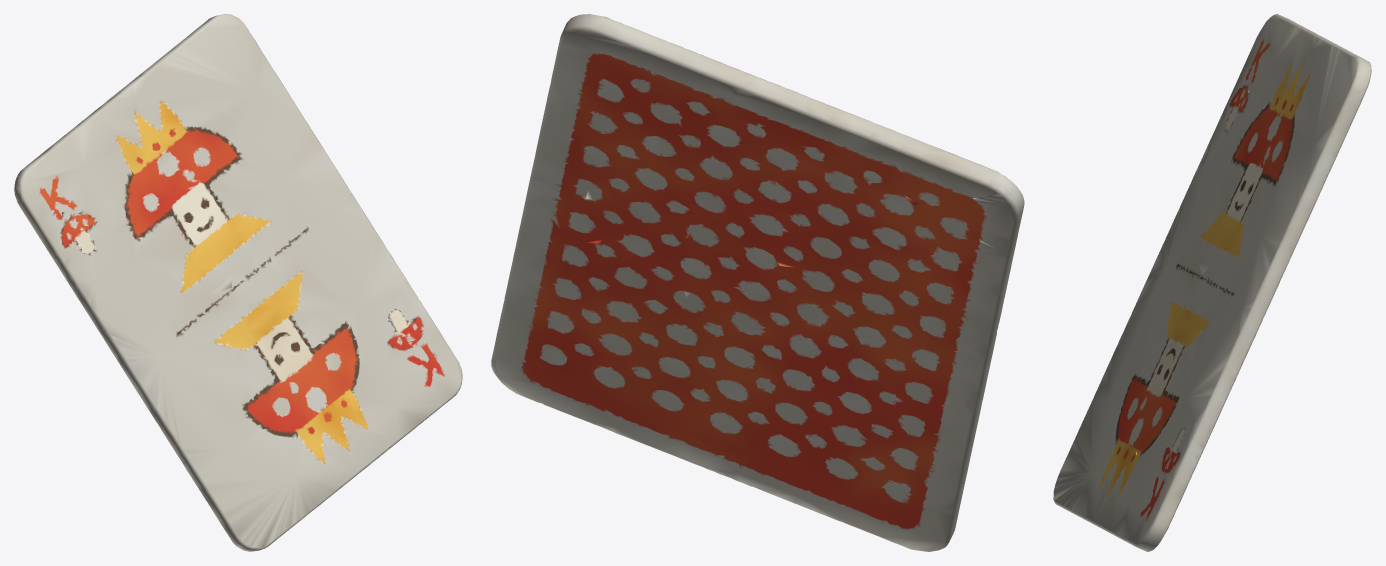
File: card-king-stuck.glb
3 views of the same model, side by side, from view 1: azimuth 30°, elevation 25°; view 2: azimuth 150°, elevation 25°; view 3: azimuth 270°, elevation 25° (orthographic). The views are drawn at different scales.
Parts seen in each view (by area): view 1: card_king; view 2: card_king; view 3: card_king.
Boxes of the visible parts, bbox=[...] form: card_king: bbox=[14, 14, 462, 551]; card_king: bbox=[491, 14, 1024, 551]; card_king: bbox=[1053, 14, 1371, 551].
Bounding box in the file's own units: 4.18 × 4.28 × 2.48.
